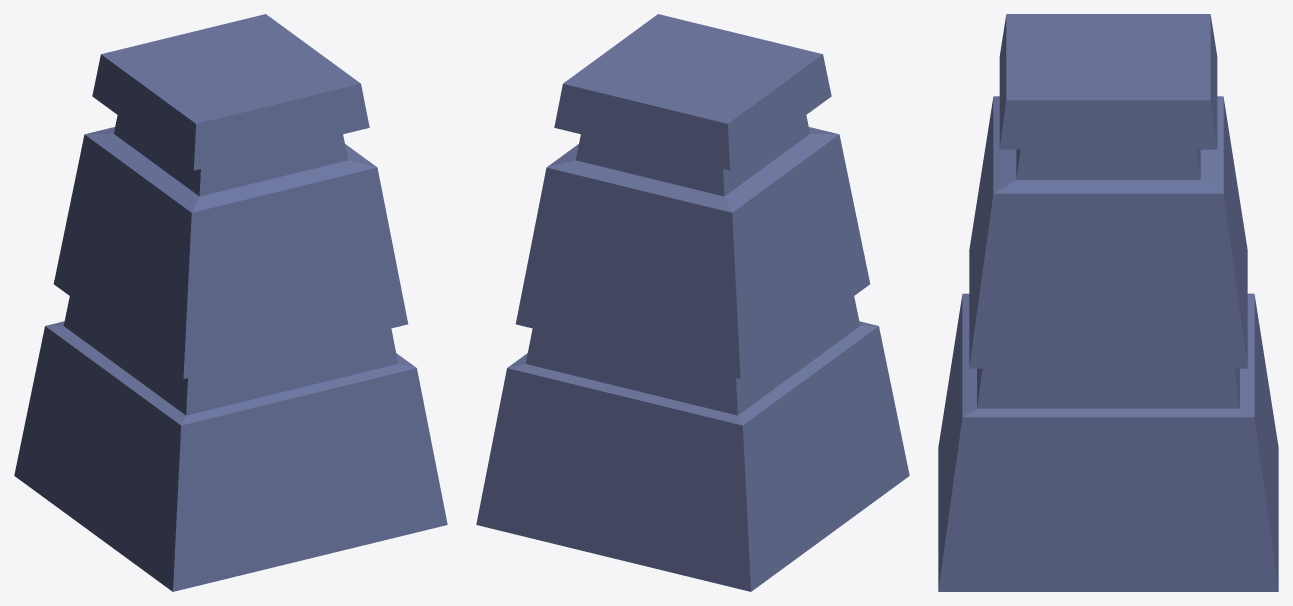
File: column_small_3_1.fbx
3 views of the same model, side by side, from view 1: azimuth 30°, elevation 25°; view 2: azimuth 150°, elevation 25°; view 3: azimuth 270°, elevation 25° (orthographic). The views are drawn at different scales.
Visible parts, largest first — view 1: column_small_3_1; view 2: column_small_3_1; view 3: column_small_3_1.
Part boxes in pixels (bbox=[...]): column_small_3_1: bbox=[14, 14, 447, 591]; column_small_3_1: bbox=[476, 14, 909, 591]; column_small_3_1: bbox=[938, 14, 1278, 591].
Size of the model in its own units: 2 by 3 by 2.
